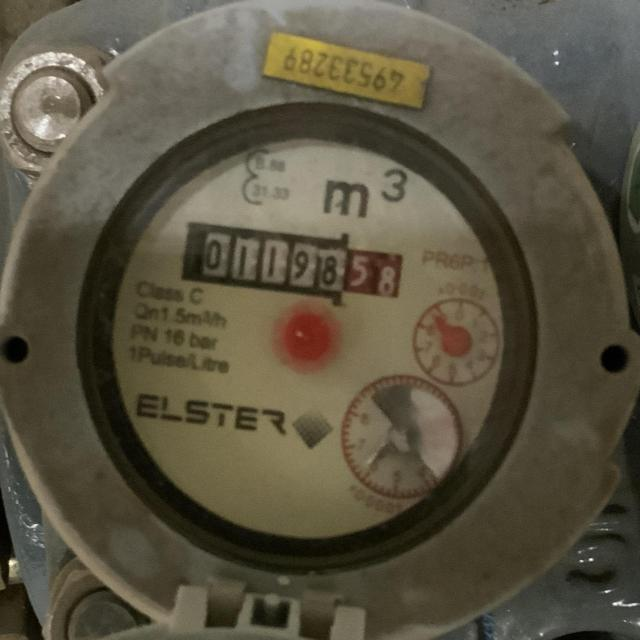gaz_meter: (104, 103, 513, 536)
indication: (185, 222, 406, 307)
